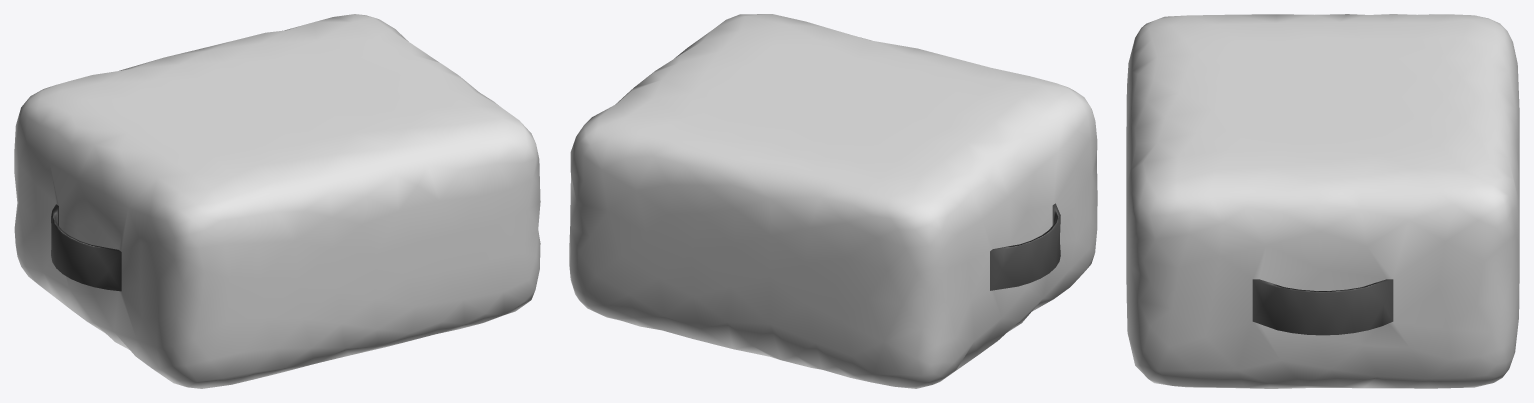
File: side_side_handle.obj
3 renders of one model, left to right at view 1: azimuth 30°, elevation 25°; view 2: azimuth 150°, elevation 25°; view 3: azimuth 270°, elevation 25°, orthographic. The views are drawn at different scales.
Visible parts, largest first — view 1: side_side_handle; view 2: side_side_handle; view 3: side_side_handle.
Boxes of the visible parts, x1,y1,x2,y2 form: side_side_handle: (14, 14, 540, 388); side_side_handle: (569, 14, 1097, 388); side_side_handle: (1126, 14, 1519, 388).
Bounding box in the file's own units: 0.57 × 0.25 × 0.42.
